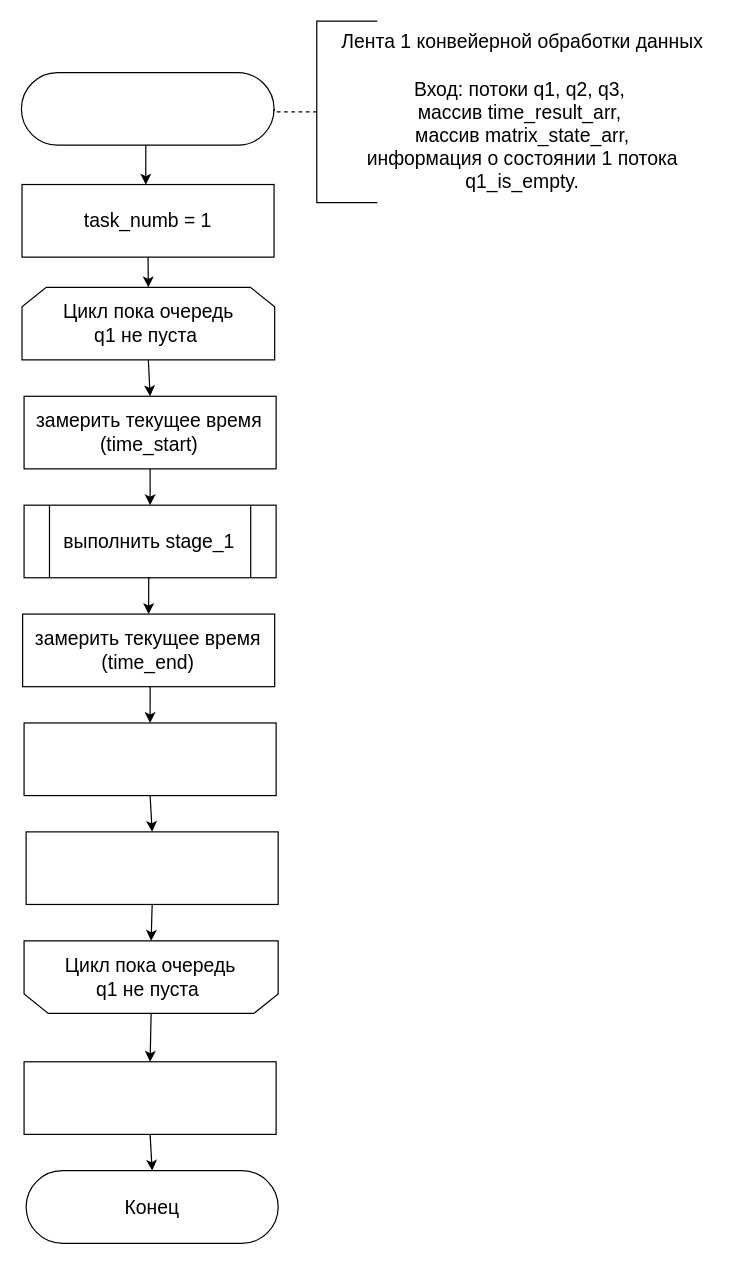
The diagram is 737 pixels wide and 1264 high, and some of its shapes have lost their labels. The shapes that lost their labels are listed below. From the top down, each one's centre as x and y in pixels, then its label:
At (147,108): "Начало".
At (149,759): "сохранить результат в time_result_arr".
At (151,867): "task_numb += 1".
At (149,1097): "q1_is_empty = true".
